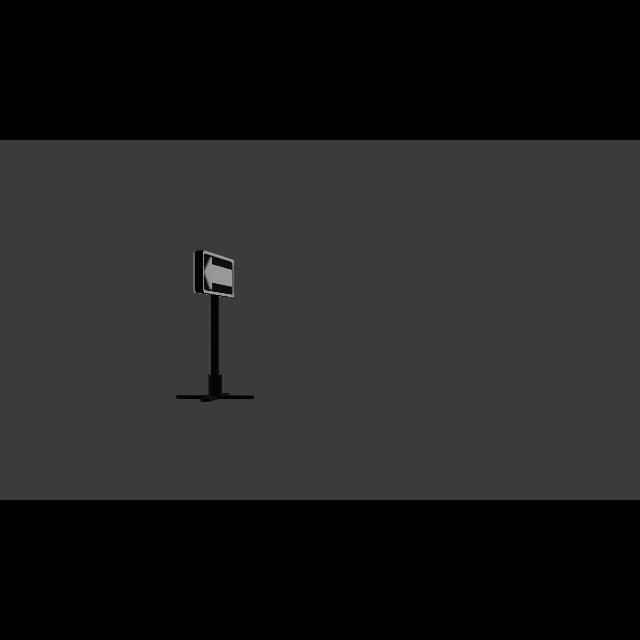sign_oneway_left: (197, 250, 240, 300)
